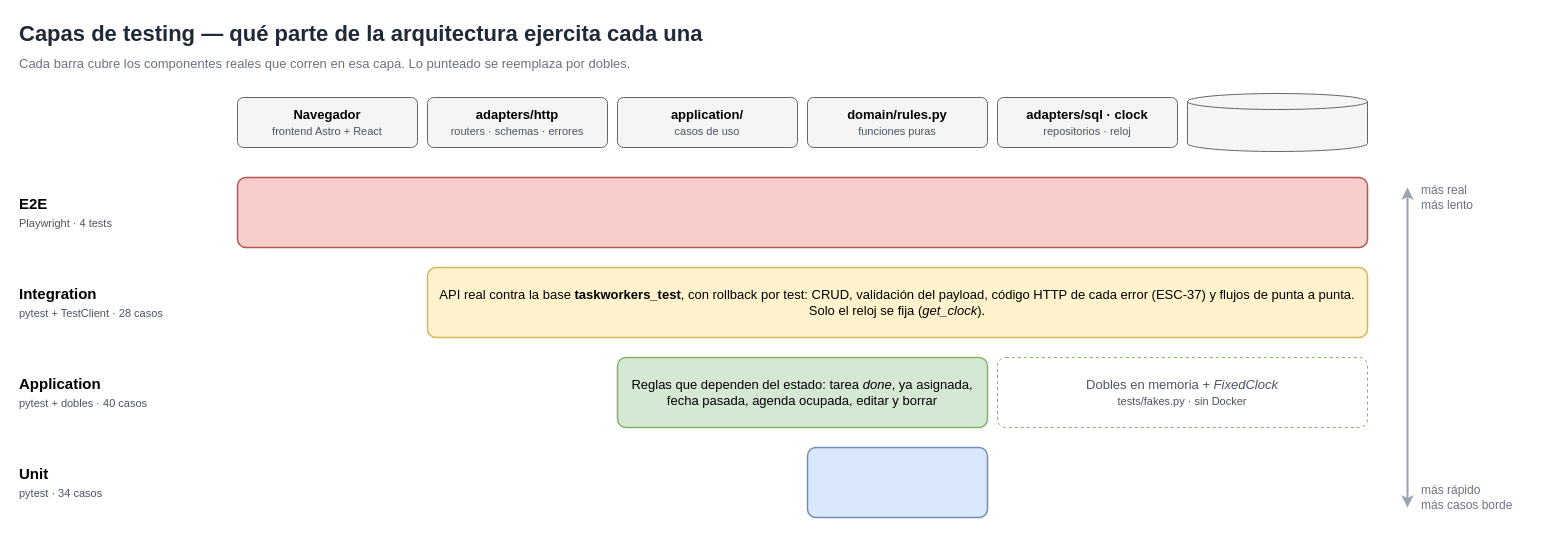
Image size: 1556x535. Some labels were removed from this diagram. The centre of each missing label's shape, as x and y in pixels:
"Flujos de la demo en el navegador contra la app levantada (ESC-33 a ESC-36)" goes at (x=802, y=212).
"Postgres Docker" goes at (x=1277, y=122).
"Skills, fechas, agenda y auto_assign" goes at (x=897, y=482).
